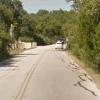Tree: (60, 3, 100, 76)
